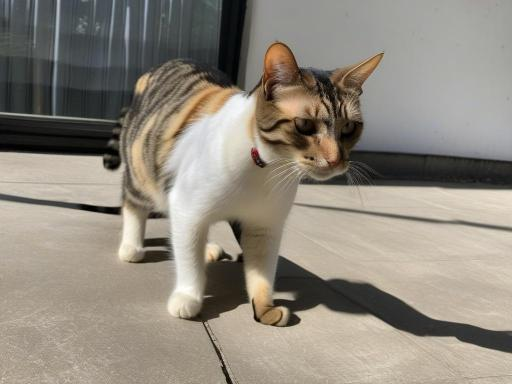cat_standing: (104, 42, 383, 326)
